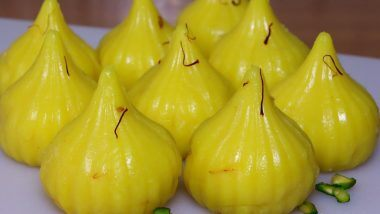modak: (46, 64, 194, 213), (193, 56, 315, 214), (276, 30, 380, 169), (5, 27, 98, 166), (129, 25, 236, 138)
